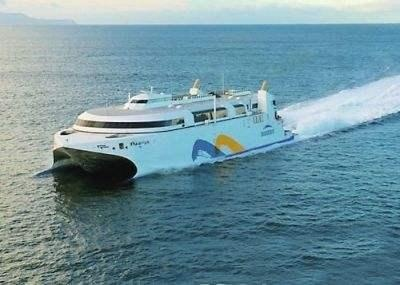yacht: (45, 72, 293, 188)
